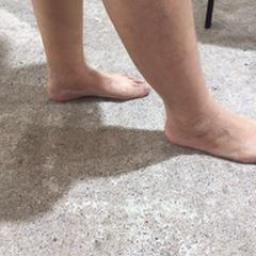Medial View -Left Foot-: (40, 45, 154, 119)
